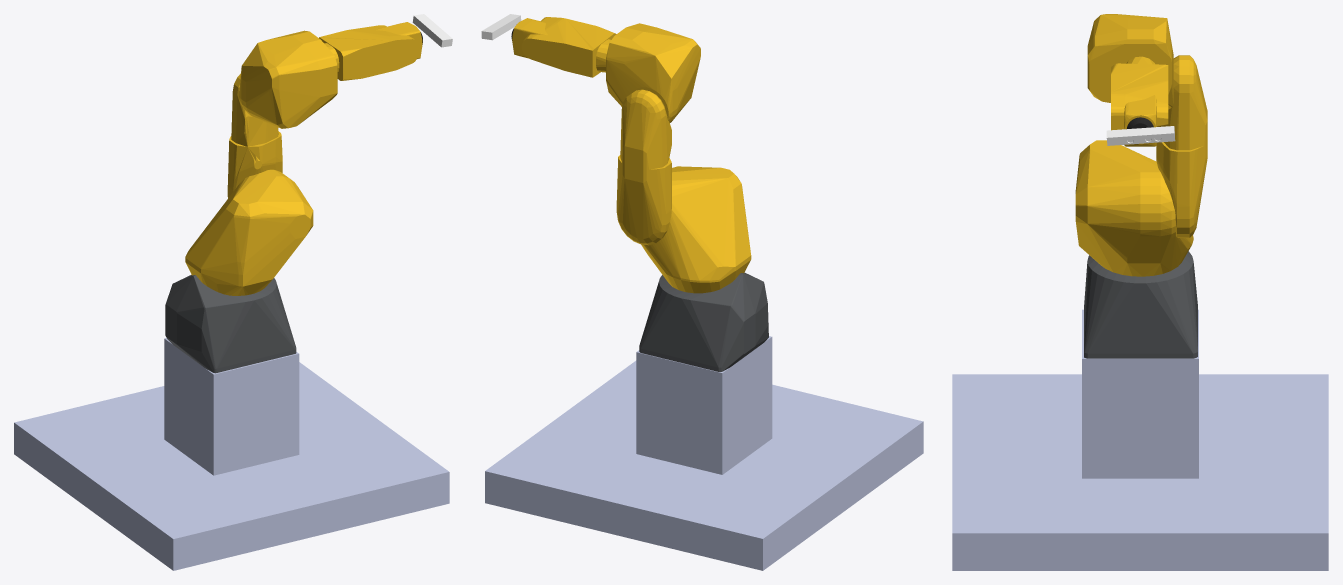
Rendered from fanuc_xtion.dae.
3 views of the same model, side by side, from view 1: azimuth 30°, elevation 25°; view 2: azimuth 150°, elevation 25°; view 3: azimuth 270°, elevation 25° (orthographic). The views are drawn at different scales.
Parts seen in each view (by area): view 1: pedestal_description, link_1, base_link, link_3, link_4, link_2, camera_link; view 2: pedestal_description, link_1, base_link, link_2, link_3, link_4, link_5; view 3: pedestal_description, link_1, base_link, link_2, link_3, link_4, camera_link, link_5.
Boxes of the visible parts, left/top/right/bottom form: pedestal_description: left=14, top=338, right=449, bottom=570; link_1: left=185, top=169, right=313, bottom=295; base_link: left=165, top=275, right=296, bottom=373; link_3: left=239, top=30, right=337, bottom=128; link_4: left=319, top=25, right=417, bottom=80; link_2: left=227, top=73, right=282, bottom=198; camera_link: left=412, top=14, right=452, bottom=47; pedestal_description: left=485, top=336, right=923, bottom=570; link_1: left=641, top=166, right=751, bottom=293; base_link: left=639, top=272, right=768, bottom=371; link_2: left=616, top=89, right=671, bottom=245; link_3: left=606, top=23, right=700, bottom=122; link_4: left=521, top=17, right=616, bottom=77; link_5: left=512, top=18, right=547, bottom=58; pedestal_description: left=952, top=309, right=1328, bottom=570; link_1: left=1075, top=140, right=1193, bottom=276; base_link: left=1084, top=251, right=1197, bottom=358; link_2: left=1156, top=55, right=1207, bottom=237; link_3: left=1087, top=14, right=1173, bottom=109; link_4: left=1111, top=56, right=1168, bottom=130; camera_link: left=1106, top=126, right=1175, bottom=145; link_5: left=1124, top=95, right=1156, bottom=146.
Bounding box in the file's own units: 1.25 × 1 × 1.46.
